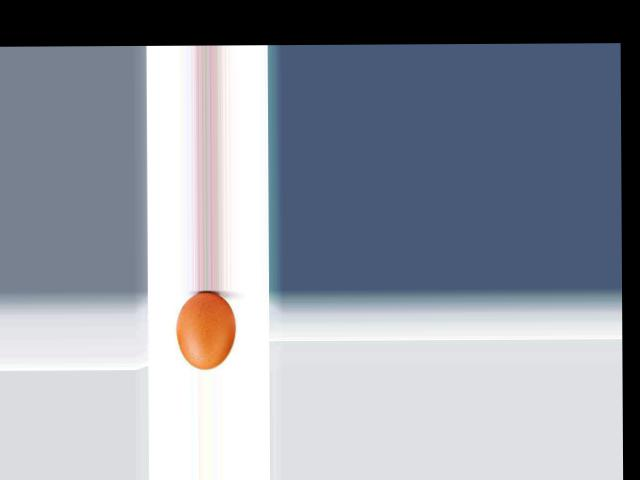egg: (176, 291, 236, 368)
